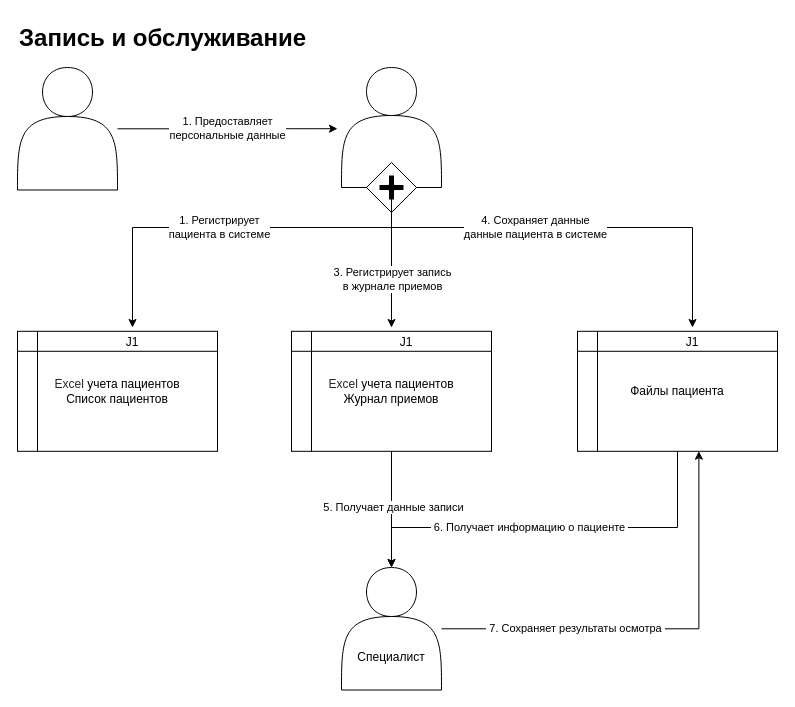
Image size: 795x707. Some labels were removed from this diagram. The shapes that lost their labels are listed below. From the top down, each one's box as (x1, y1, x2, y2) in pixels, then its label:
(16, 66, 118, 190): Пациент
(340, 66, 442, 188): Администратор ( Ресепшен )
